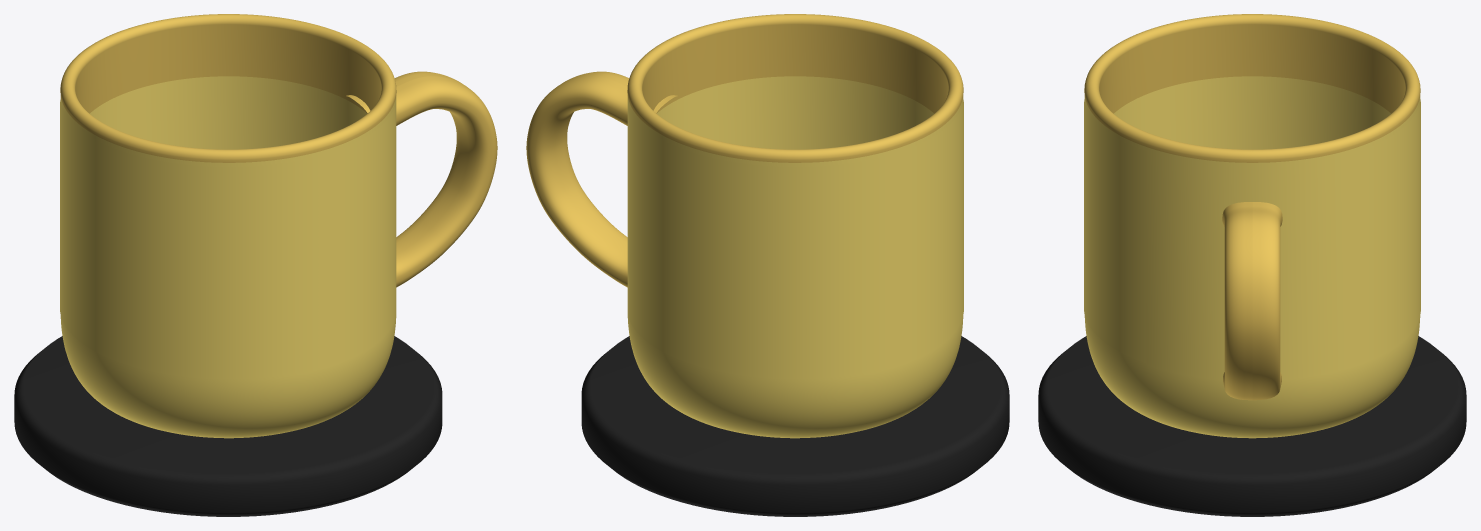
Rendered from caneca_imperial_com_base.glb.
The picture shows the model from 3 angles, left to right: view 1: azimuth 30°, elevation 25°; view 2: azimuth 150°, elevation 25°; view 3: azimuth 270°, elevation 25°; orthographic projection.
Visible parts, largest first — view 1: Area_Arte, Base_Apoio, Borda_Ouro, Corpo_Externo, Interior_Caneca, Alca_Imperial_Ouro; view 2: Area_Arte, Base_Apoio, Borda_Ouro, Corpo_Externo, Interior_Caneca, Alca_Imperial_Ouro; view 3: Corpo_Externo, Base_Apoio, Area_Arte, Borda_Ouro, Interior_Caneca, Alca_Imperial_Ouro.
Boxes of the visible parts, x1,y1,x2,y2 form: Area_Arte: (60, 100, 394, 379); Base_Apoio: (14, 336, 442, 516); Borda_Ouro: (60, 14, 396, 162); Corpo_Externo: (60, 96, 396, 438); Interior_Caneca: (90, 76, 366, 149); Alca_Imperial_Ouro: (346, 71, 497, 287); Area_Arte: (629, 100, 963, 379); Base_Apoio: (581, 336, 1009, 516); Borda_Ouro: (627, 14, 963, 162); Corpo_Externo: (627, 96, 963, 438); Interior_Caneca: (657, 76, 933, 149); Alca_Imperial_Ouro: (526, 71, 677, 287); Corpo_Externo: (1084, 97, 1420, 438); Base_Apoio: (1038, 336, 1466, 516); Area_Arte: (1084, 99, 1420, 363); Borda_Ouro: (1084, 14, 1420, 162); Interior_Caneca: (1114, 76, 1390, 149); Alca_Imperial_Ouro: (1222, 202, 1282, 400).
Bounding box in the file's own units: 0.1398 × 0.104 × 0.116.
Materials: 5 (1 with a texture image).
